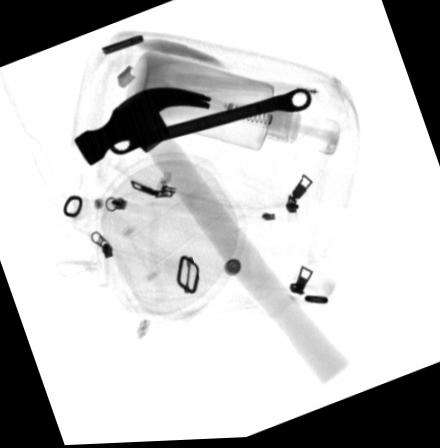Hammer: (71, 88, 347, 388)
Wrench: (107, 91, 311, 157)
